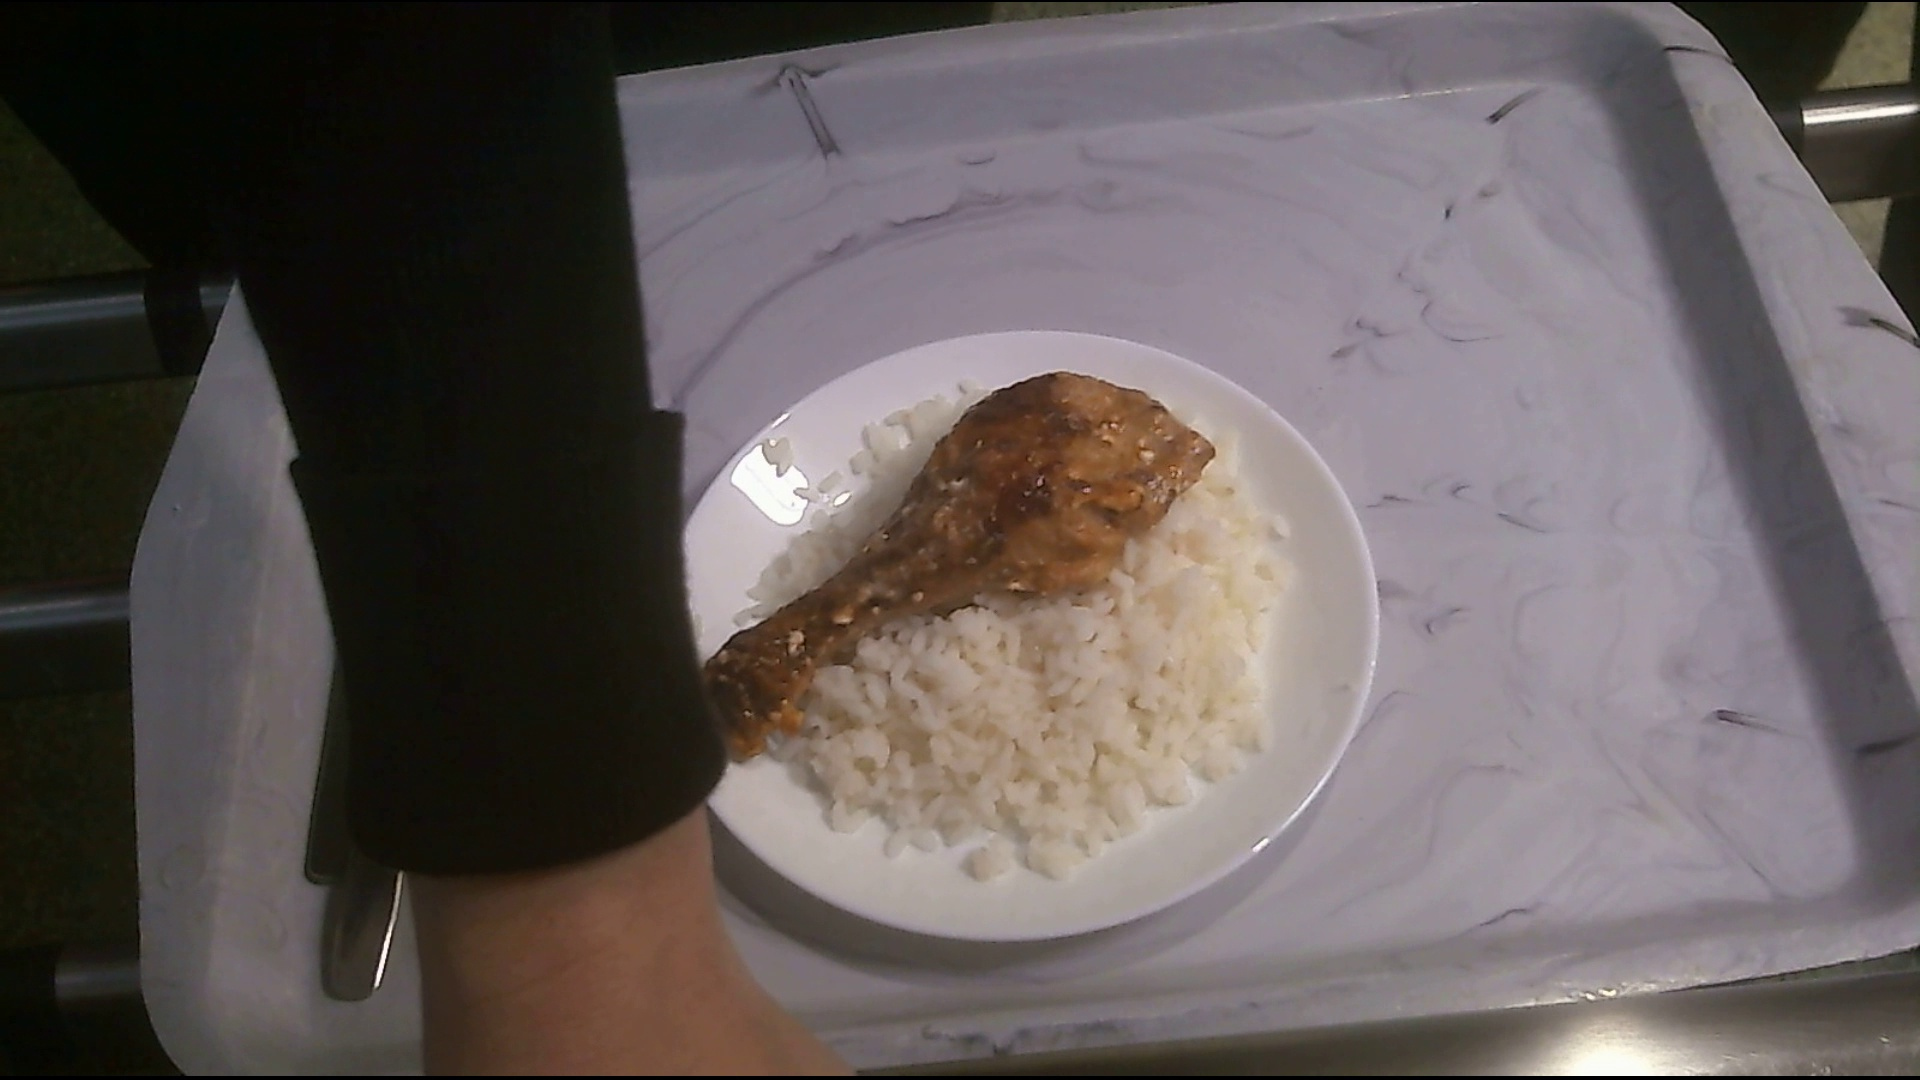plate: (669, 322, 1383, 942)
